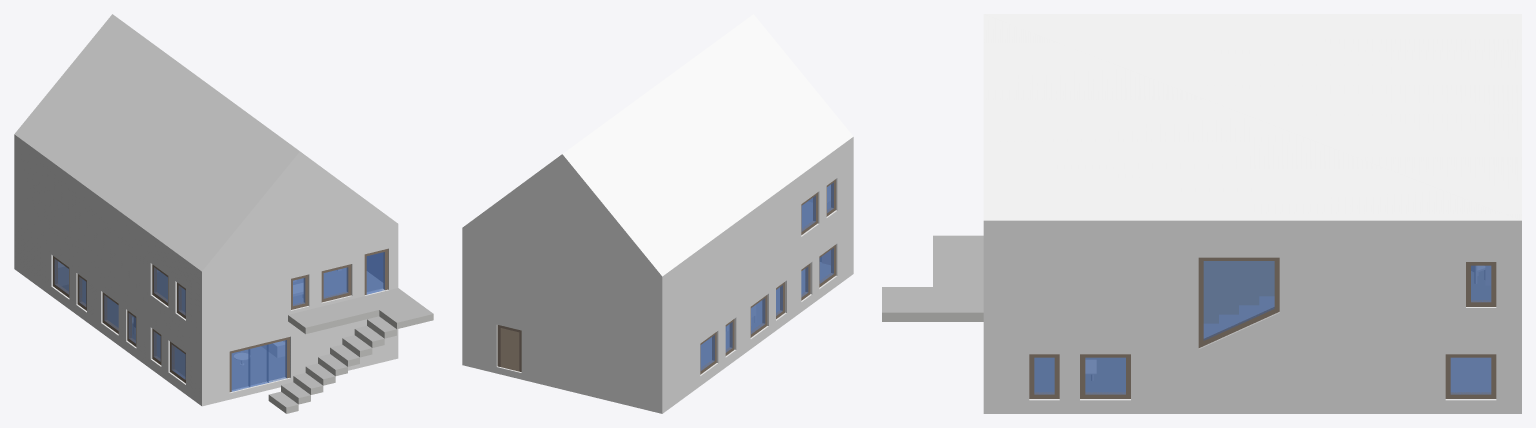
The model's file is gable.fbx.
3 views of the same model, side by side, from view 1: azimuth 30°, elevation 25°; view 2: azimuth 150°, elevation 25°; view 3: azimuth 270°, elevation 25° (orthographic). The views are drawn at different scales.
Visible parts, largest first — view 1: n_dak_2_1, n_woning_2_1, n_vloer1, n_ondergrond_2_1, n_deur_glas2, n_deur_glas3, n_deur_glas1, n_deur_glas4, n_raam_d7, n_kozijn1_1, n_kozijn_r1_1, n_kozijn6 (+3 smaller); view 2: n_woning_2_1, n_dak_2_1, n_ondergrond_2_1, n_deur1, n_raam_d4, n_raam_d2, n_raam_d3, n_raam_d1; view 3: n_dak_2_1, n_woning_2_1, n_ondergrond_2_1, n_vloer1, n_raam_trap1, n_wanden1, n_kozijn_3_1, n_raam_d6, n_raam_d5, n_kozijn_r1_3, n_kozijn_r1_2, n_trap1 (+4 smaller).
Part boxes in pixels (box(x1,y1,x2,y2)): n_dak_2_1: box(14, 14, 397, 271); n_woning_2_1: box(14, 134, 398, 399); n_vloer1: box(157, 268, 433, 413); n_ondergrond_2_1: box(14, 263, 398, 406); n_deur_glas2: box(248, 344, 268, 386); n_deur_glas3: box(231, 349, 250, 391); n_deur_glas1: box(267, 340, 286, 382); n_deur_glas4: box(366, 252, 384, 294); n_raam_d7: box(323, 267, 348, 298); n_kozijn1_1: box(229, 337, 289, 392); n_kozijn_r1_1: box(321, 264, 351, 302); n_kozijn6: box(364, 249, 388, 294); n_woning_2_1: box(462, 137, 853, 407); n_dak_2_1: box(462, 14, 853, 276); n_ondergrond_2_1: box(462, 262, 853, 413); n_deur1: box(500, 328, 519, 371); n_raam_d4: box(801, 195, 815, 231); n_raam_d2: box(751, 298, 765, 333); n_raam_d3: box(819, 248, 833, 283); n_raam_d1: box(700, 335, 714, 370); n_dak_2_1: box(983, 14, 1521, 220); n_woning_2_1: box(983, 220, 1521, 404); n_ondergrond_2_1: box(983, 358, 1521, 413); n_vloer1: box(882, 235, 1490, 321); n_raam_trap1: box(1203, 261, 1274, 340); n_wanden1: box(1204, 261, 1274, 323); n_kozijn_3_1: box(1198, 257, 1279, 347); n_raam_d6: box(1450, 357, 1491, 394); n_raam_d5: box(1085, 357, 1125, 394); n_kozijn_r1_3: box(1445, 354, 1496, 398); n_kozijn_r1_2: box(1080, 354, 1130, 398); n_trap1: box(1204, 296, 1274, 337).
Bounding box in the file's own units: 32 × 36 × 63.
